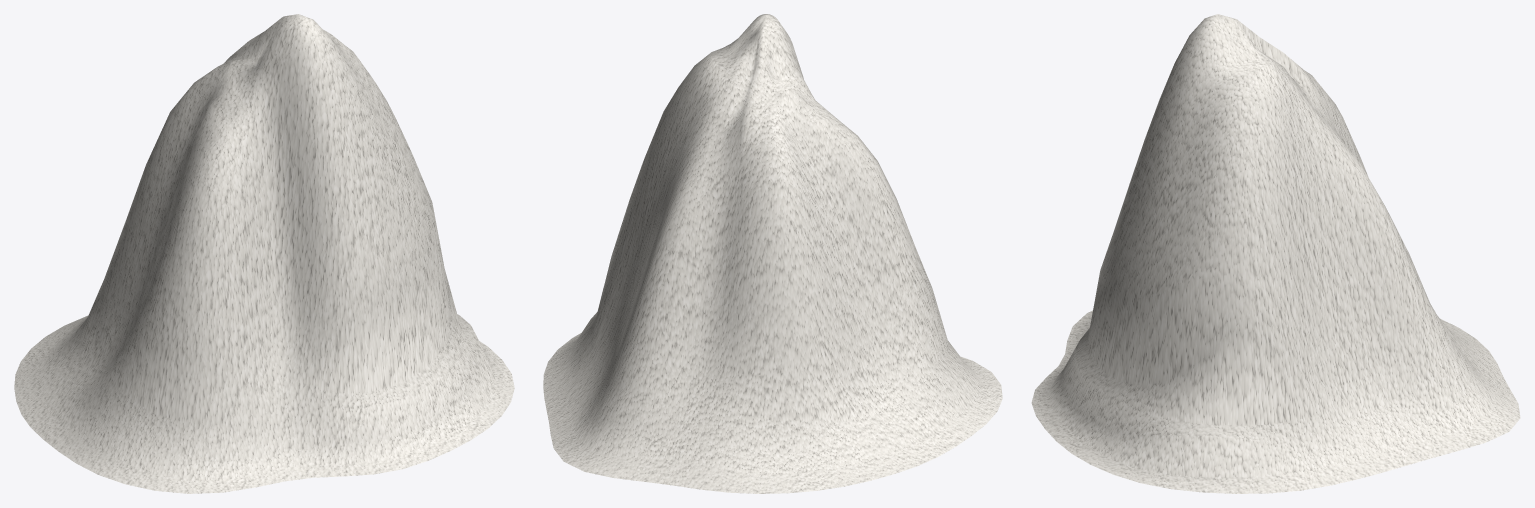
The model's file is food_mound.fbx.
The picture shows the model from 3 angles, left to right: view 1: azimuth 30°, elevation 25°; view 2: azimuth 150°, elevation 25°; view 3: azimuth 270°, elevation 25°; orthographic projection. The views are drawn at different scales.
Visible parts, largest first — view 1: FoodMound; view 2: FoodMound; view 3: FoodMound.
Part boxes in pixels (x1,y1,x2,y2): FoodMound: (14, 14, 514, 493); FoodMound: (543, 14, 1002, 493); FoodMound: (1031, 14, 1520, 493).
Bounding box in the file's own units: 0.9257 × 0.8001 × 0.9237.
